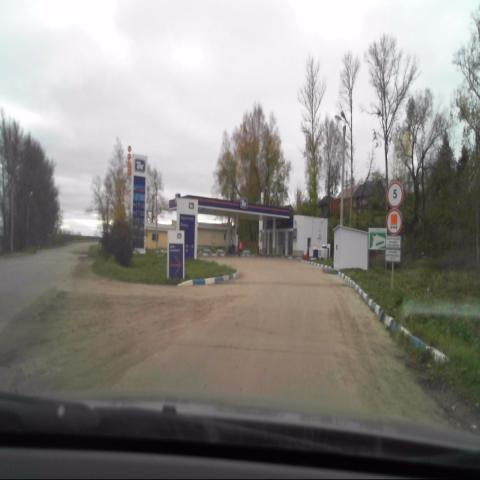3_32: (386, 208, 402, 235)
